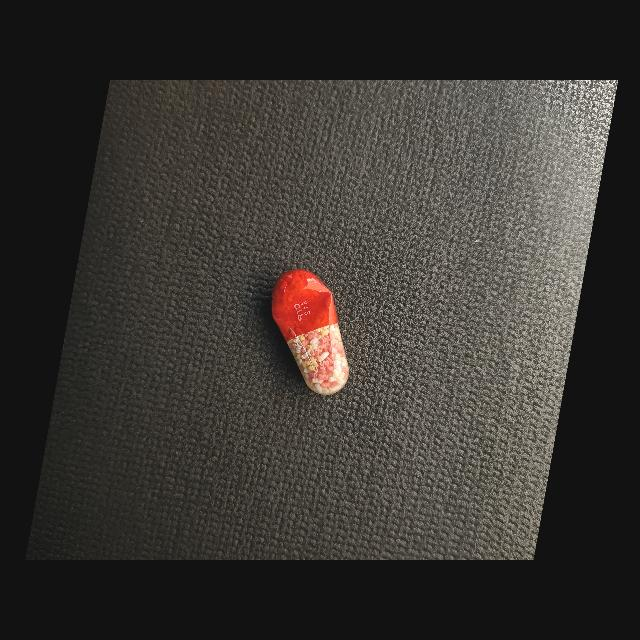Defective Capsule: (271, 270, 349, 395)
